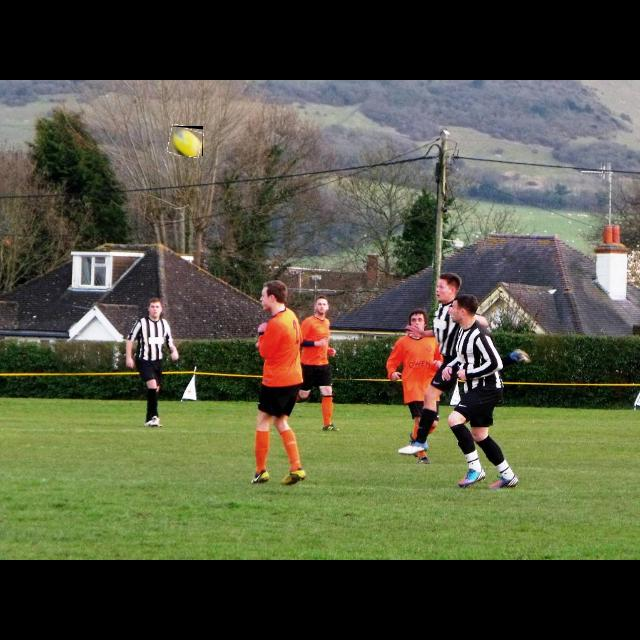Football: (169, 126, 203, 156)
